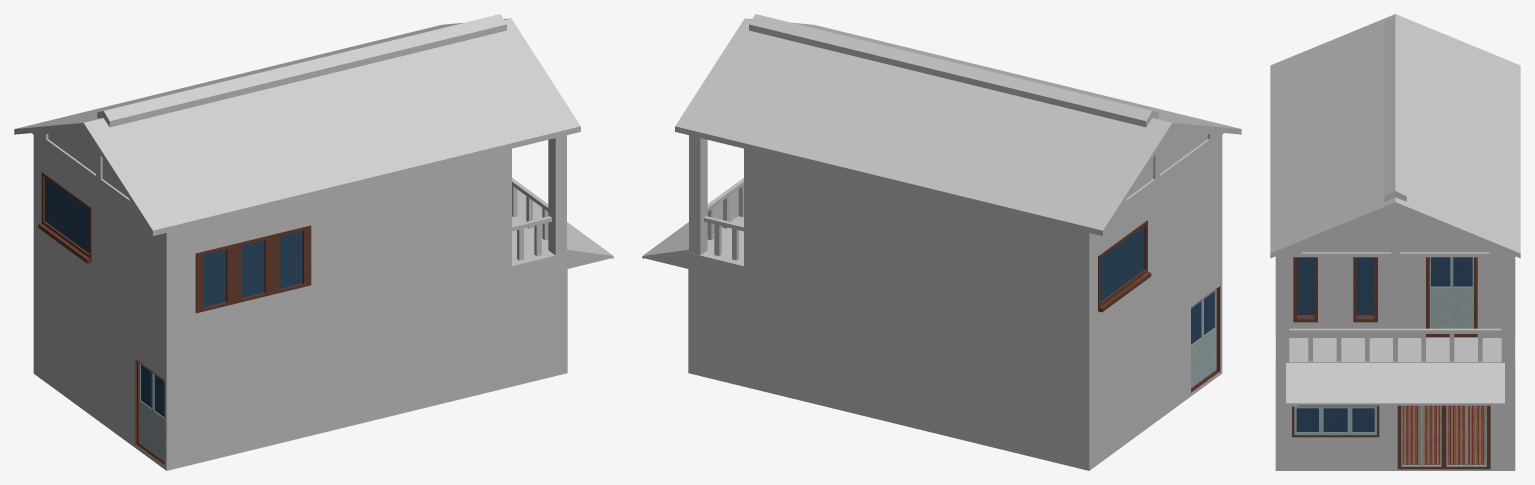
File: House3-1.fbx
The picture shows the model from 3 angles, left to right: view 1: azimuth 30°, elevation 25°; view 2: azimuth 150°, elevation 25°; view 3: azimuth 270°, elevation 25°; orthographic projection. The views are drawn at different scales.
Parts seen in each view (by area): view 1: House3-1; view 2: House3-1; view 3: House3-1.
Boxes of the visible parts, x1=… form: House3-1: x1=14, y1=14, x2=613, y2=470; House3-1: x1=642, y1=14, x2=1241, y2=470; House3-1: x1=1270, y1=14, x2=1520, y2=470.
Bounding box in the file's own units: 815 × 516 × 418.
